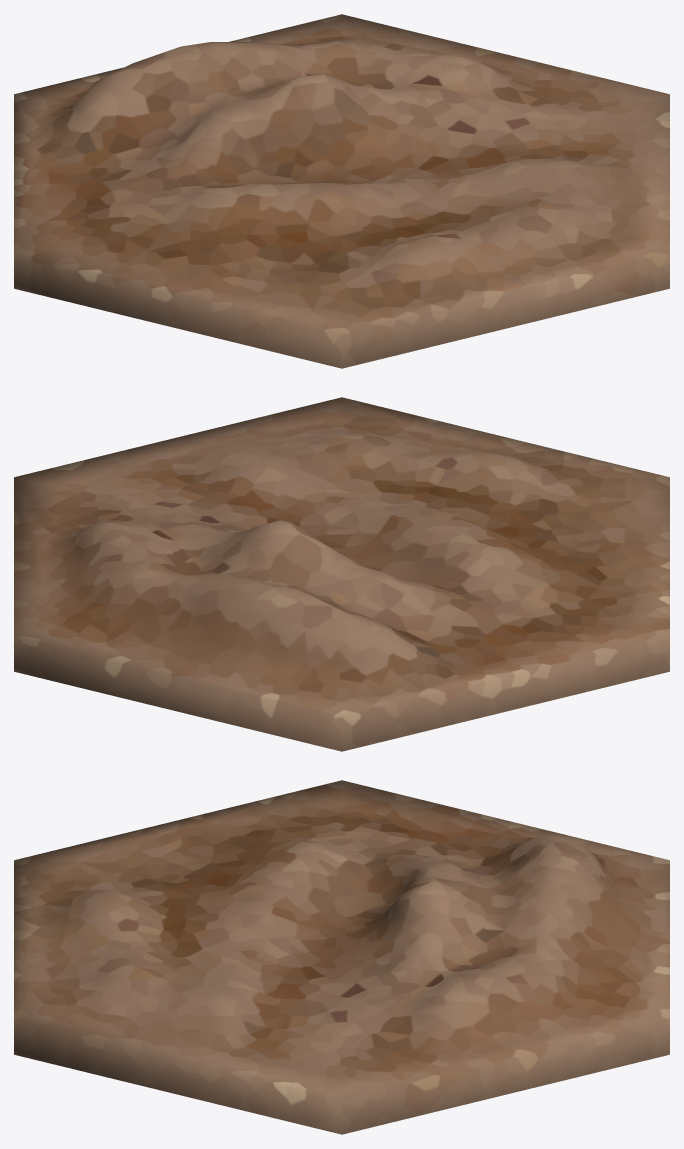
The model's file is HexTop_ClayGround.fbx.
3 views of the same model, one above another, from view 1: azimuth 30°, elevation 25°; view 2: azimuth 150°, elevation 25°; view 3: azimuth 270°, elevation 25° (orthographic).
Parts seen in each view (by area): view 1: HexTop_ClayGround; view 2: HexTop_ClayGround; view 3: HexTop_ClayGround.
Boxes of the visible parts, x1,y1,x2,y2 form: HexTop_ClayGround: (14,14,669,368); HexTop_ClayGround: (14,397,669,751); HexTop_ClayGround: (14,780,669,1134).
Bounding box in the file's own units: 100 × 13.91 × 86.6.
